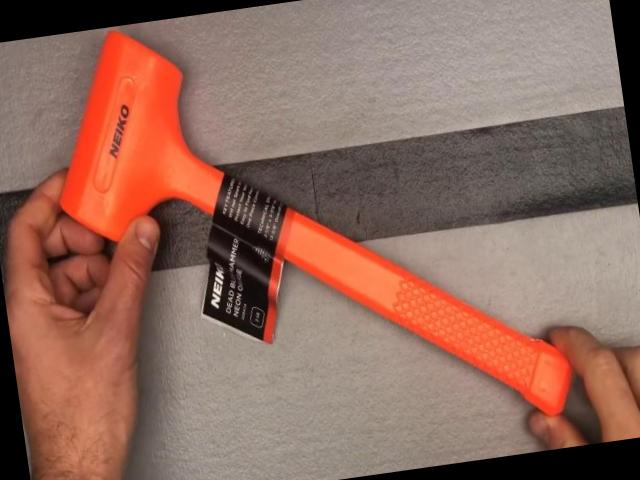hammer: (35, 0, 579, 480)
